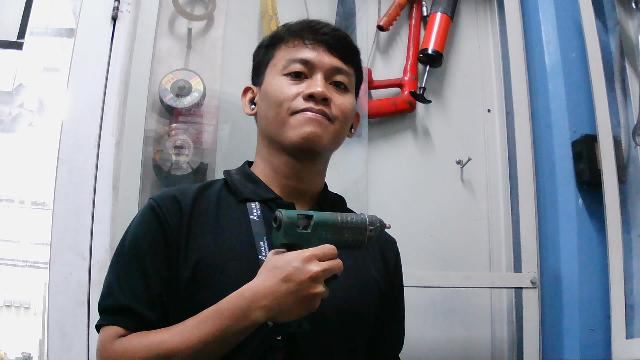gun_lem: (266, 196, 397, 297)
